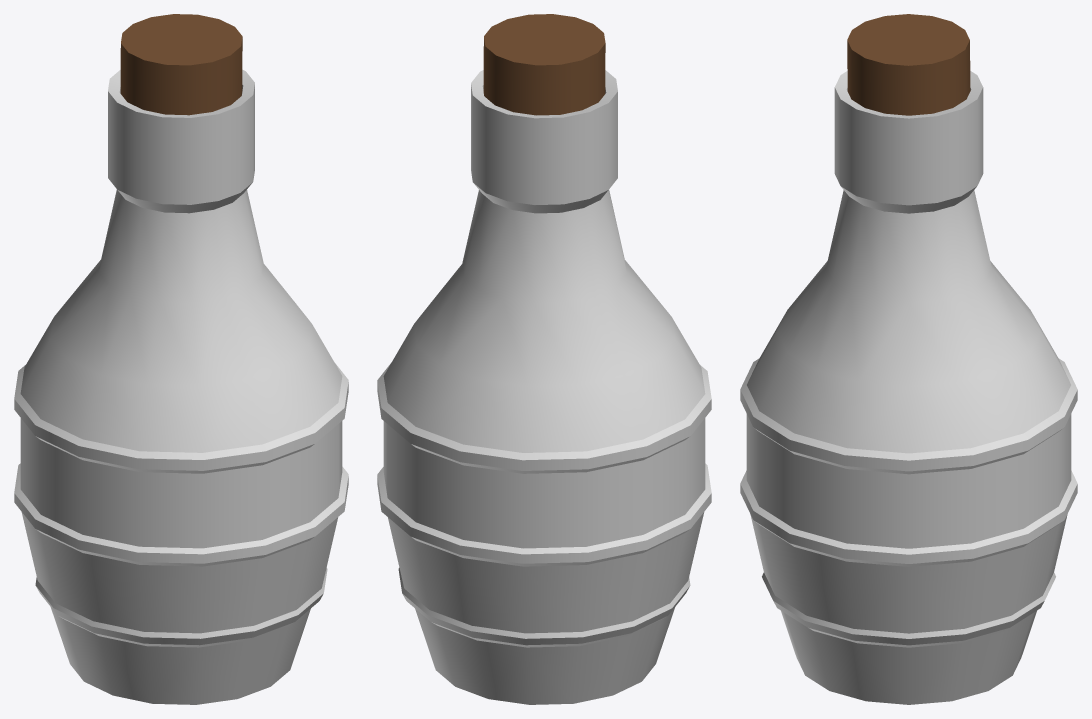
File: Flacon_d_huile_V2_low.fbx
The picture shows the model from 3 angles, left to right: view 1: azimuth 30°, elevation 25°; view 2: azimuth 150°, elevation 25°; view 3: azimuth 270°, elevation 25°; orthographic projection.
Visible parts, largest first — view 1: flacon.001; view 2: flacon.001; view 3: flacon.001.
Part boxes in pixels (<box>): flacon.001: <box>14,14,348,704</box>; flacon.001: <box>377,14,711,704</box>; flacon.001: <box>740,14,1077,704</box>.
Bounding box in the file's own units: 9.23 × 18.63 × 9.23.
